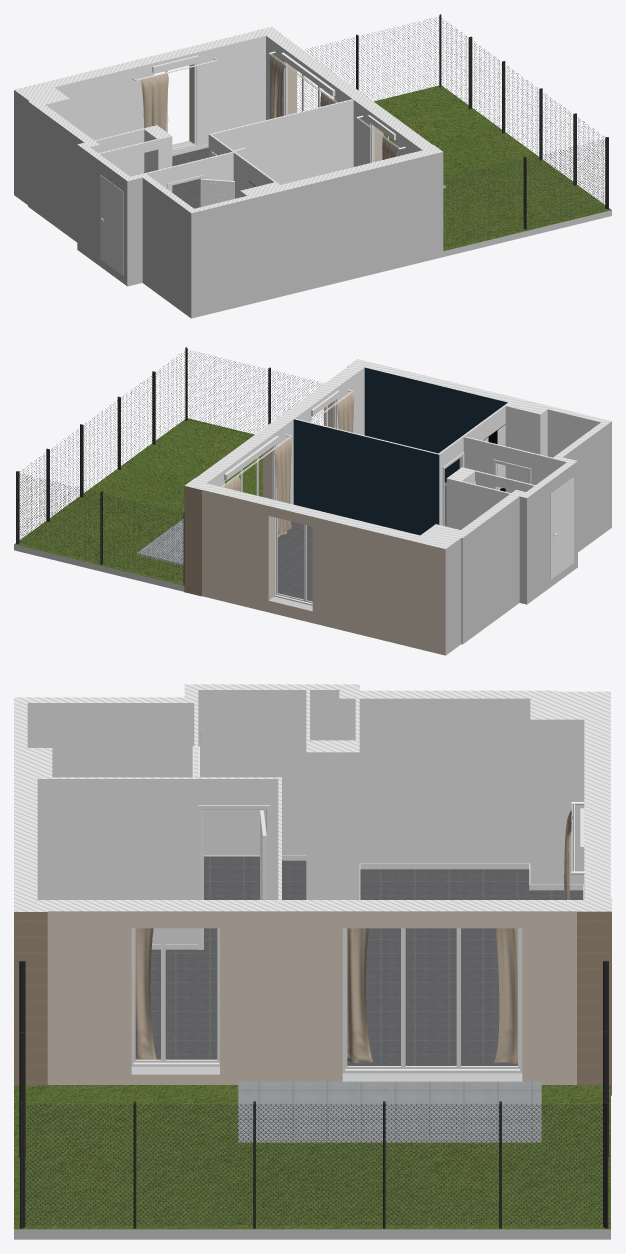
The picture shows the model from 3 angles, top to bottom: view 1: azimuth 30°, elevation 25°; view 2: azimuth 150°, elevation 25°; view 3: azimuth 270°, elevation 25°; orthographic projection. The views are drawn at different scales.
Visible parts, largest first — view 1: masonry_01, ground_garden_01, fence_01, section_face_01, windows_01, door_01, curtain_03, ground_living_01, curtain_01, interior_door_panel_01, curtain_bar_01; view 2: masonry_01, ground_garden_01, wallpaint_01, fence_01, section_face_01, wallpaint_02, ground_living_01, door_01, windows_01, curtain_01, walltiles_simple_01, ground_terrace_01 (+2 smaller); view 3: masonry_01, ground_garden_01, fence_01, section_face_01, ground_terrace_01, ground_living_01, door_01, windows_01, ground_bed_01, walltiles_simple_01, ground_kitchen_01, curtain_01 (+4 smaller).
Boxes of the visible parts, bbox=[...] form: masonry_01: bbox=[14, 36, 611, 318]; ground_garden_01: bbox=[374, 85, 611, 251]; fence_01: bbox=[297, 14, 608, 246]; section_face_01: bbox=[14, 26, 442, 213]; windows_01: bbox=[152, 52, 395, 162]; door_01: bbox=[100, 175, 123, 275]; curtain_03: bbox=[141, 72, 168, 131]; ground_living_01: bbox=[172, 147, 208, 208]; curtain_01: bbox=[269, 54, 336, 118]; interior_door_panel_01: bbox=[200, 147, 245, 206]; curtain_bar_01: bbox=[132, 51, 405, 149]; masonry_01: bbox=[14, 366, 611, 655]; ground_garden_01: bbox=[14, 418, 262, 585]; wallpaint_01: bbox=[293, 419, 439, 535]; fence_01: bbox=[16, 347, 323, 584]; section_face_01: bbox=[185, 359, 611, 549]; wallpaint_02: bbox=[364, 367, 507, 482]; ground_living_01: bbox=[277, 521, 312, 601]; door_01: bbox=[550, 477, 573, 579]; windows_01: bbox=[224, 390, 339, 605]; curtain_01: bbox=[223, 437, 291, 537]; walltiles_simple_01: bbox=[505, 424, 540, 492]; ground_terrace_01: bbox=[137, 519, 183, 564]; masonry_01: bbox=[14, 690, 611, 1239]; ground_garden_01: bbox=[14, 1085, 610, 1229]; fence_01: bbox=[19, 961, 608, 1228]; section_face_01: bbox=[14, 684, 611, 911]; ground_terrace_01: bbox=[238, 1081, 541, 1139]; ground_living_01: bbox=[347, 928, 517, 1065]; door_01: bbox=[199, 714, 277, 856]; windows_01: bbox=[131, 808, 584, 1073]; ground_bed_01: bbox=[150, 949, 217, 1059]; walltiles_simple_01: bbox=[27, 733, 194, 777]; ground_kitchen_01: bbox=[360, 869, 583, 899]; curtain_01: bbox=[347, 928, 517, 1063].
Size of the model in its own units: 11.75 by 2.7 by 7.96.
35 materials, 35 textured.
